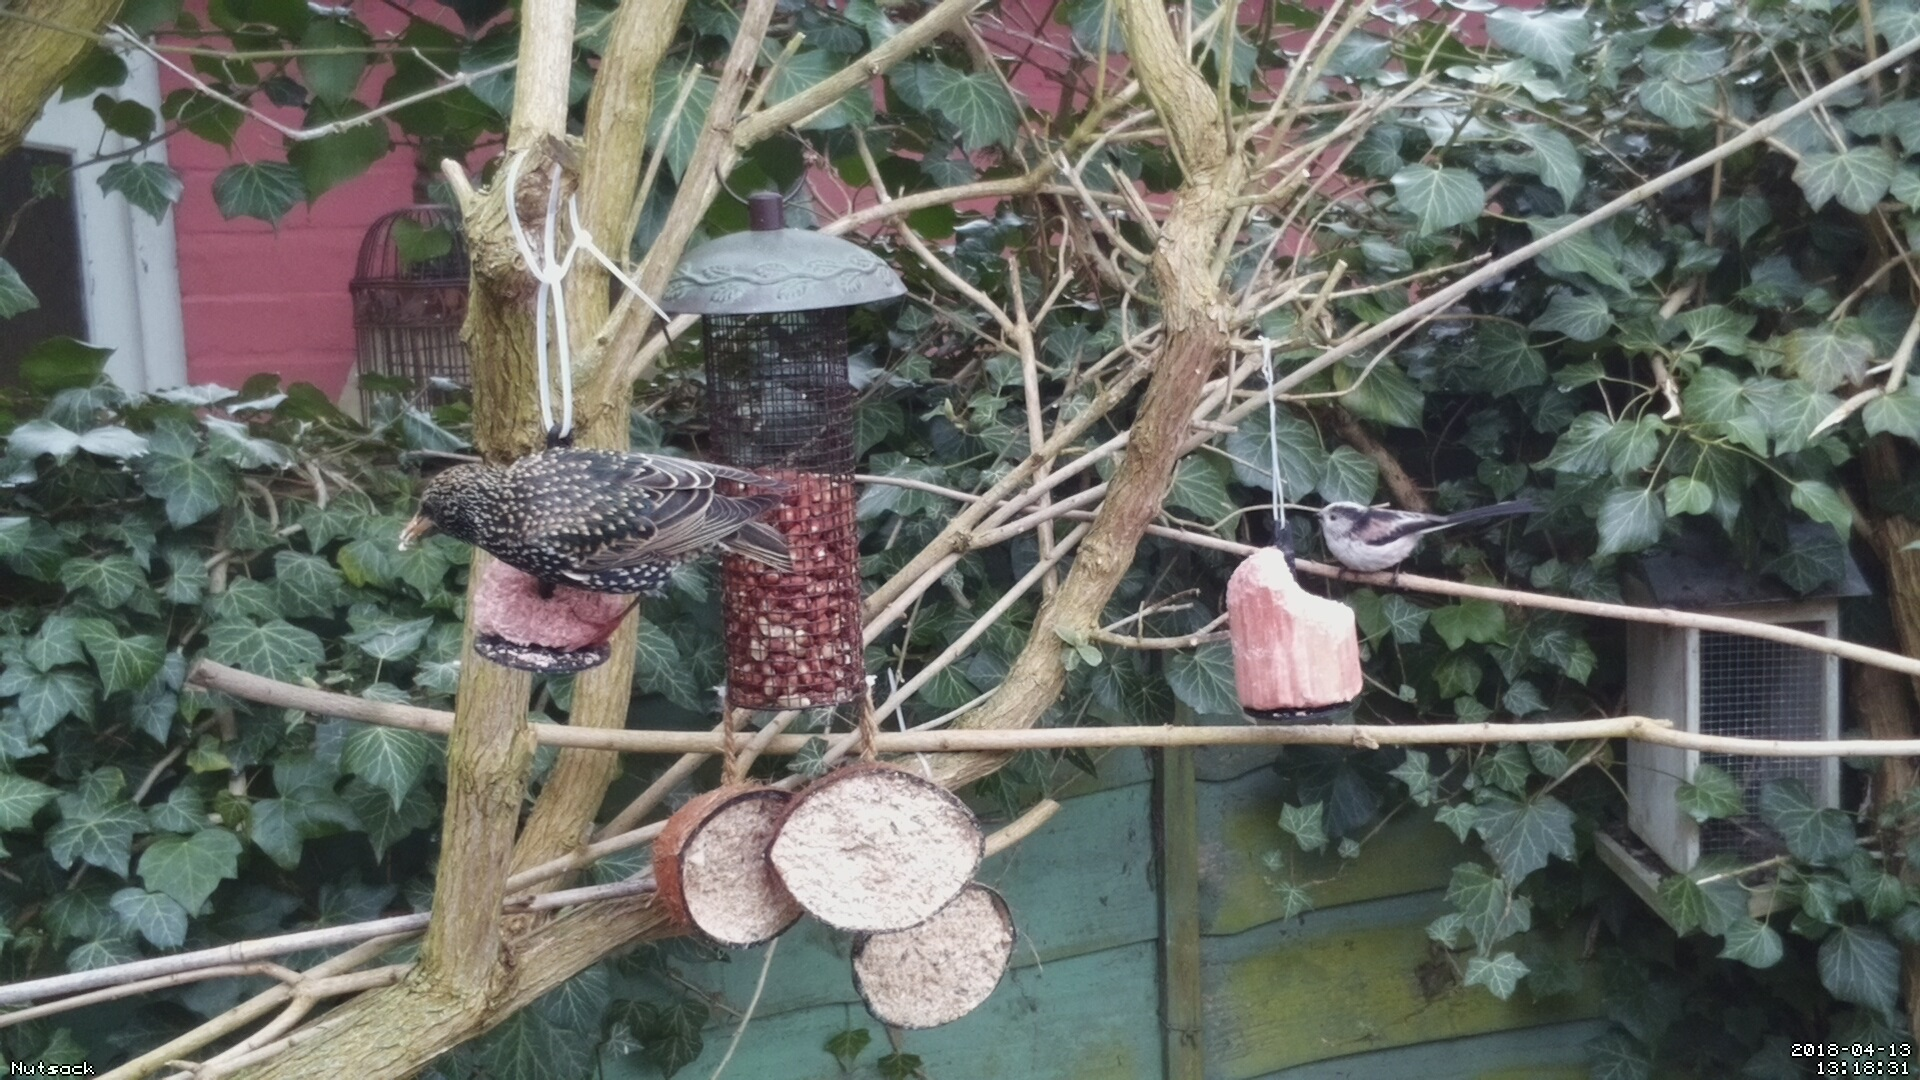long tailed tit: (1313, 498, 1545, 589)
starling: (400, 447, 793, 597)
